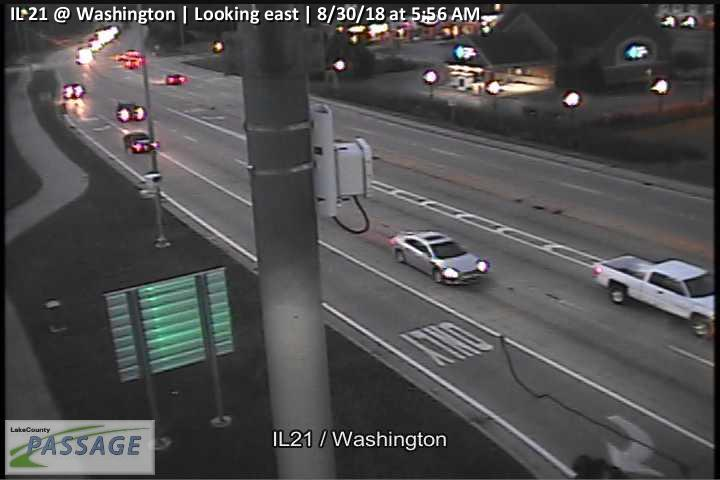Sedan: (389, 231, 490, 284), (122, 132, 158, 153), (116, 102, 145, 121)
Truck: (591, 254, 716, 339)
